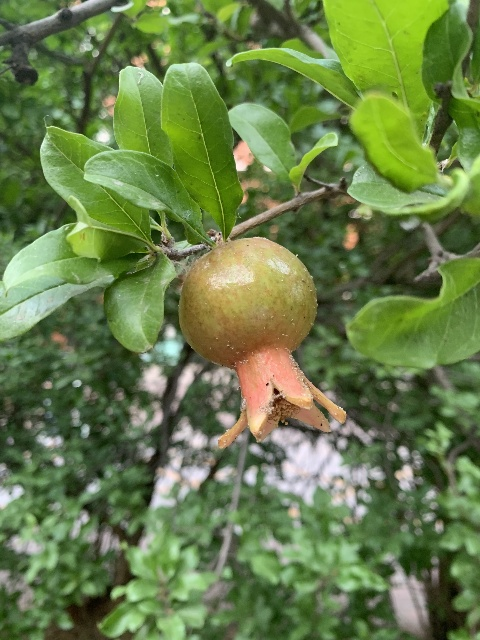early-fruit: (179, 236, 347, 447)
